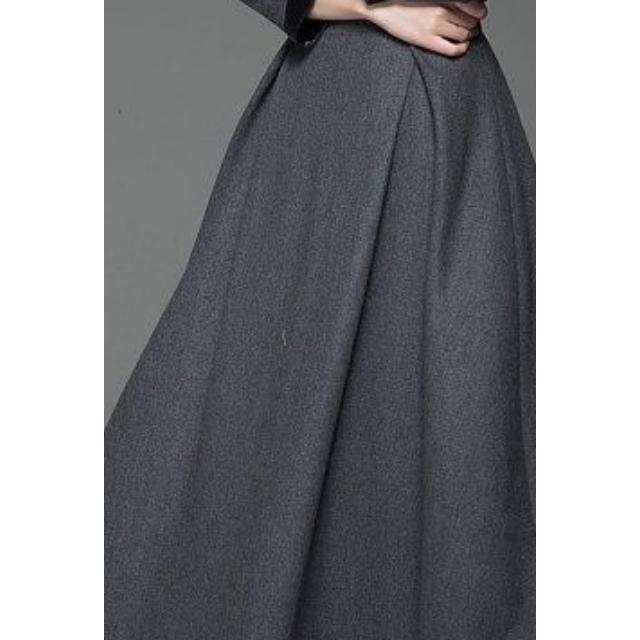wool: (104, 0, 536, 640)
